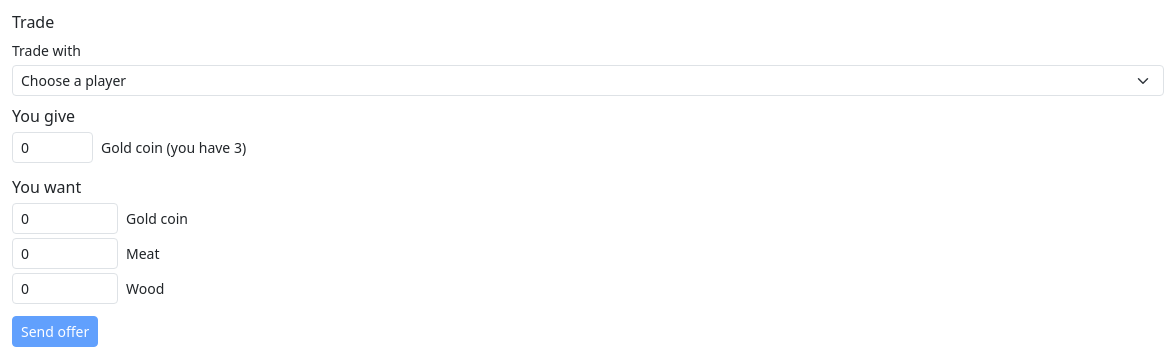
Test: an offer is built from what you carry and what exists, then sent
Expected: the button "Send offer" is disabled, [12,316,98,347]
Select "Borin" in the dropdown labelled "Trade with". click: (588, 81)
box: [12,65,1164,96]
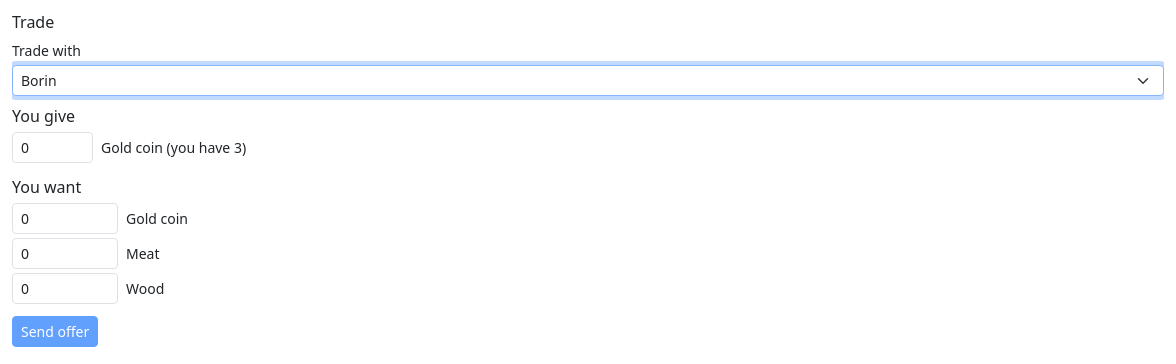
Replace the text in the number field named "Give Gold coin" with "9". click: (52, 148)
box: [12,132,93,163]
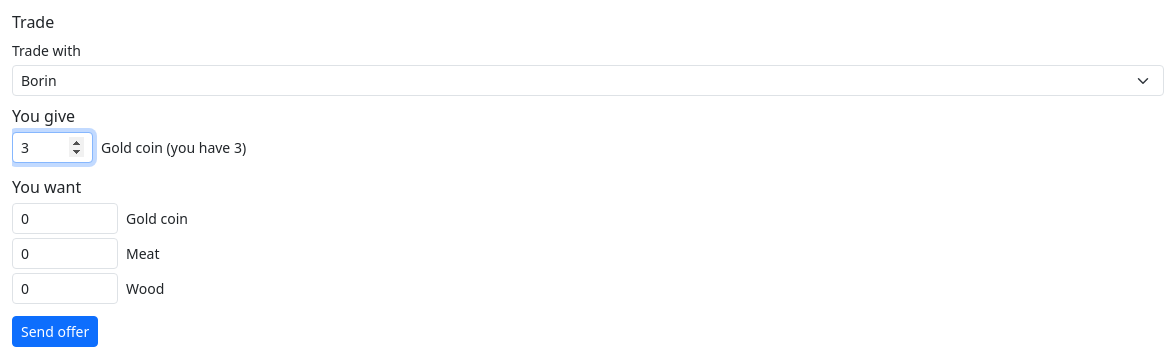
Expected: the number field named "Give Gold coin" holds "3"
Replace the text in the number field named "Give Gold coin" with "2". click: (52, 148)
box: [12,132,93,163]
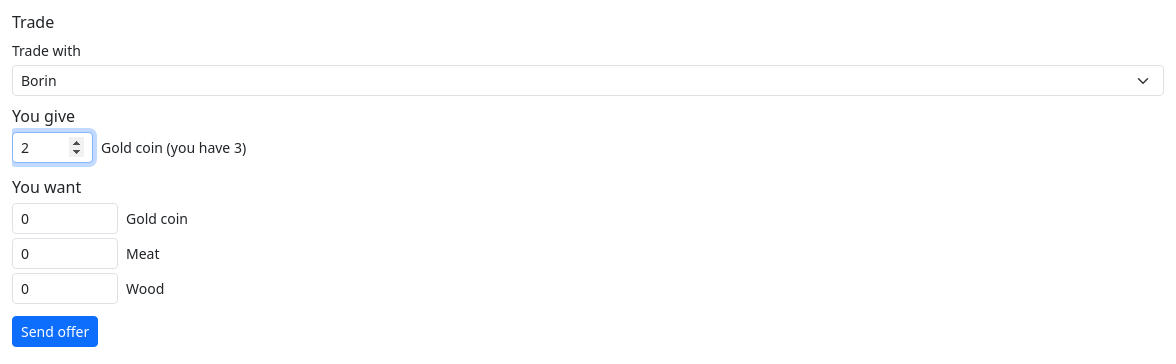
Replace the text in the number field named "Want Wood" with "1". click: (65, 289)
box: [12,273,118,304]
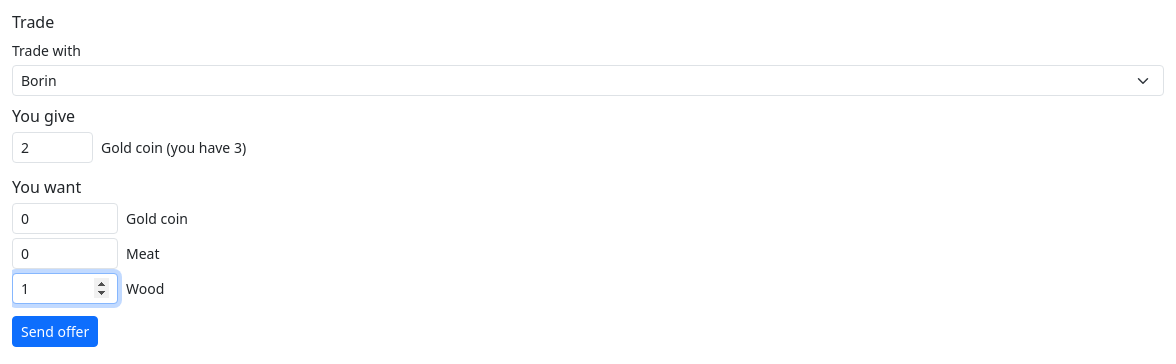
Click the button "Send offer". click: (55, 332)
box: [12,316,98,347]
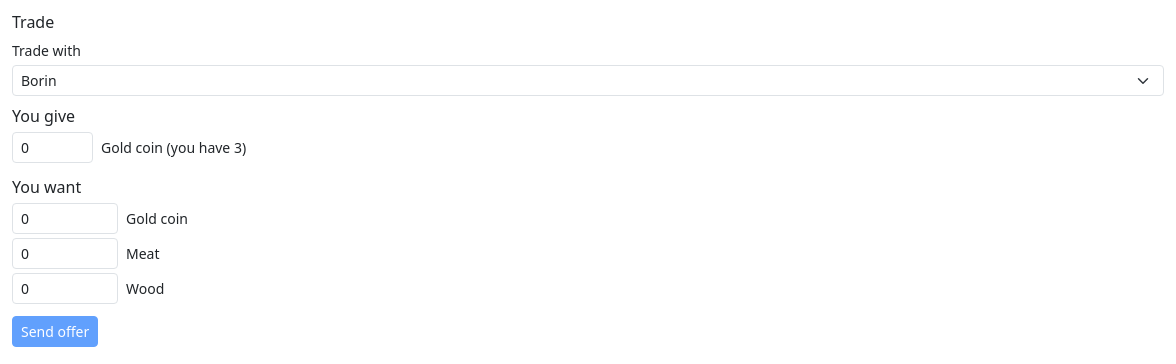
Expected: the number field named "Give Gold coin" holds "0", [12,132,93,163]
